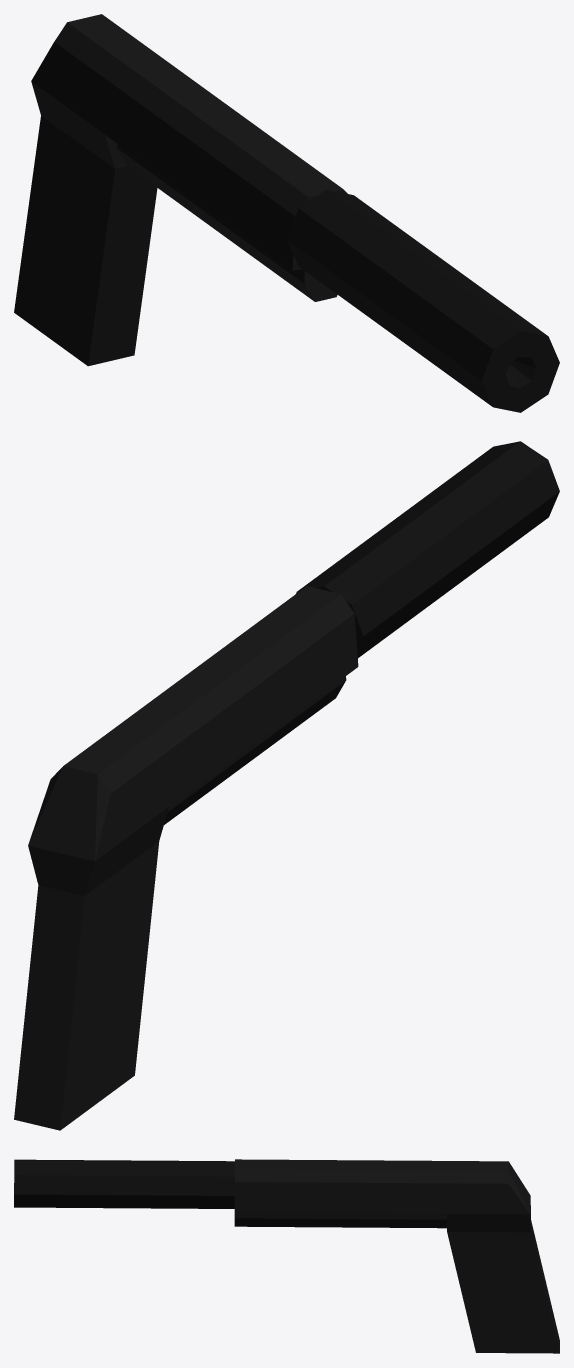
The model's file is Gun.fbx.
3 views of the same model, one above another, from view 1: azimuth 30°, elevation 25°; view 2: azimuth 150°, elevation 25°; view 3: azimuth 270°, elevation 25° (orthographic). The views are drawn at different scales.
Visible parts, largest first — view 1: Gun; view 2: Gun; view 3: Gun.
Part boxes in pixels (left/top/right/bottom): Gun: left=14, top=14, right=559, bottom=412; Gun: left=14, top=441, right=559, bottom=1130; Gun: left=14, top=1159, right=559, bottom=1353.
Size of the model in its own units: 8.54 by 34.16 by 90.65.
